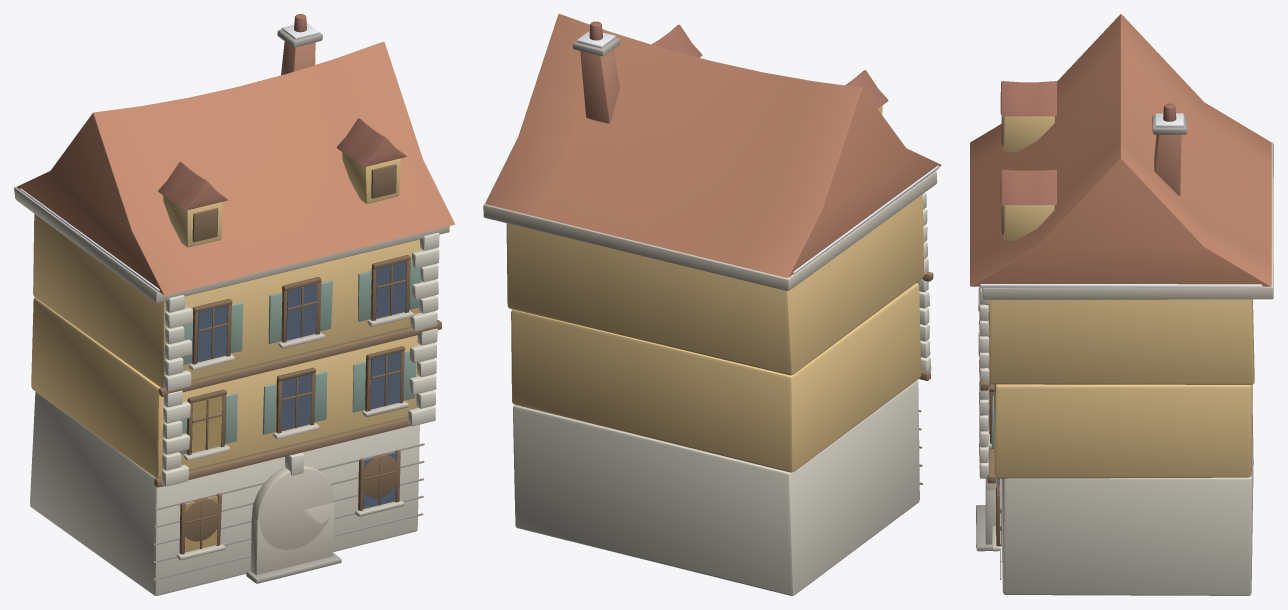
File: tenement_a.glb
The picture shows the model from 3 angles, left to right: view 1: azimuth 30°, elevation 25°; view 2: azimuth 150°, elevation 25°; view 3: azimuth 270°, elevation 25°; orthographic projection. The views are drawn at different scales.
Visible parts, largest first — view 1: tenement_a; view 2: tenement_a; view 3: tenement_a.
Part boxes in pixels (left/top/right/bottom): tenement_a: left=14, top=14, right=454, bottom=595; tenement_a: left=483, top=14, right=941, bottom=595; tenement_a: left=970, top=14, right=1273, bottom=595.
Size of what is drawn, in the model's own units: 11.07 by 16.58 by 9.66.
